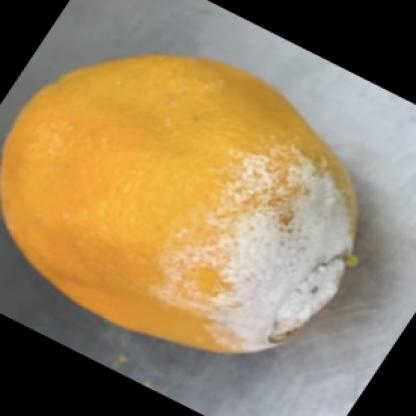rotten: (1, 56, 358, 360)
